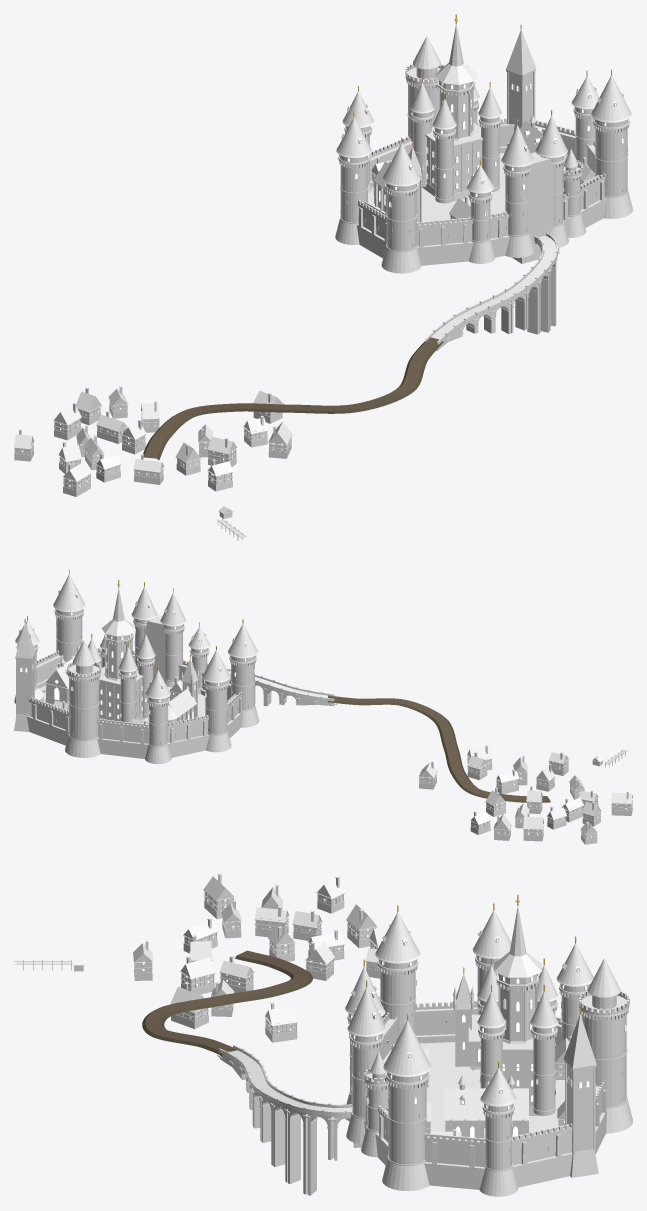
Rendered from sato_kale_geometri.glb.
3 views of the same model, one above another, from view 1: azimuth 30°, elevation 25°; view 2: azimuth 150°, elevation 25°; view 3: azimuth 270°, elevation 25° (orthographic). The views are drawn at different scales.
Visible parts, largest first — view 1: Sur_ve_Kuleler, Koy_Evleri, Ana_Kule_Donjon, Viyaduk, Kale_Yolu, Kapi_Yapisi, Avlu_Zemini_ve_Detaylar, Sapel, Avlu_Evleri; view 2: Sur_ve_Kuleler, Koy_Evleri, Ana_Kule_Donjon, Kale_Yolu, Viyaduk, Sapel, Kapi_Yapisi, Buyuk_Salon, Avlu_Evleri; view 3: Sur_ve_Kuleler, Koy_Evleri, Ana_Kule_Donjon, Viyaduk, Kale_Yolu, Avlu_Zemini_ve_Detaylar, Buyuk_Salon, Sapel, Avlu_Evleri.
Boxes of the visible parts, bbox=[...] form: Sur_ve_Kuleler: bbox=[335, 24, 632, 273]; Koy_Evleri: bbox=[14, 386, 292, 540]; Ana_Kule_Donjon: bbox=[410, 14, 502, 203]; Viyaduk: bbox=[425, 233, 557, 350]; Kale_Yolu: bbox=[143, 337, 443, 460]; Kapi_Yapisi: bbox=[512, 152, 559, 263]; Avlu_Zemini_ve_Detaylar: bbox=[368, 153, 505, 221]; Sapel: bbox=[373, 141, 423, 222]; Avlu_Evleri: bbox=[372, 132, 595, 219]; Sur_ve_Kuleler: bbox=[14, 569, 259, 764]; Koy_Evleri: bbox=[418, 745, 632, 844]; Ana_Kule_Donjon: bbox=[88, 580, 155, 722]; Kale_Yolu: bbox=[327, 695, 550, 802]; Viyaduk: bbox=[226, 668, 337, 706]; Sapel: bbox=[167, 654, 199, 723]; Kapi_Yapisi: bbox=[144, 615, 165, 680]; Buyuk_Salon: bbox=[45, 645, 79, 704]; Avlu_Evleri: bbox=[34, 663, 182, 724]; Sur_ve_Kuleler: bbox=[345, 903, 632, 1196]; Koy_Evleri: bbox=[14, 873, 390, 1042]; Ana_Kule_Donjon: bbox=[477, 894, 558, 1115]; Viyaduk: bbox=[217, 1045, 352, 1195]; Kale_Yolu: bbox=[142, 950, 312, 1055]; Avlu_Zemini_ve_Detaylar: bbox=[420, 1042, 564, 1132]; Buyuk_Salon: bbox=[444, 1075, 528, 1138]; Sapel: bbox=[453, 967, 480, 1070]; Avlu_Evleri: bbox=[391, 1036, 571, 1136].
Bounding box in the file's own units: 376 × 147 × 258.
